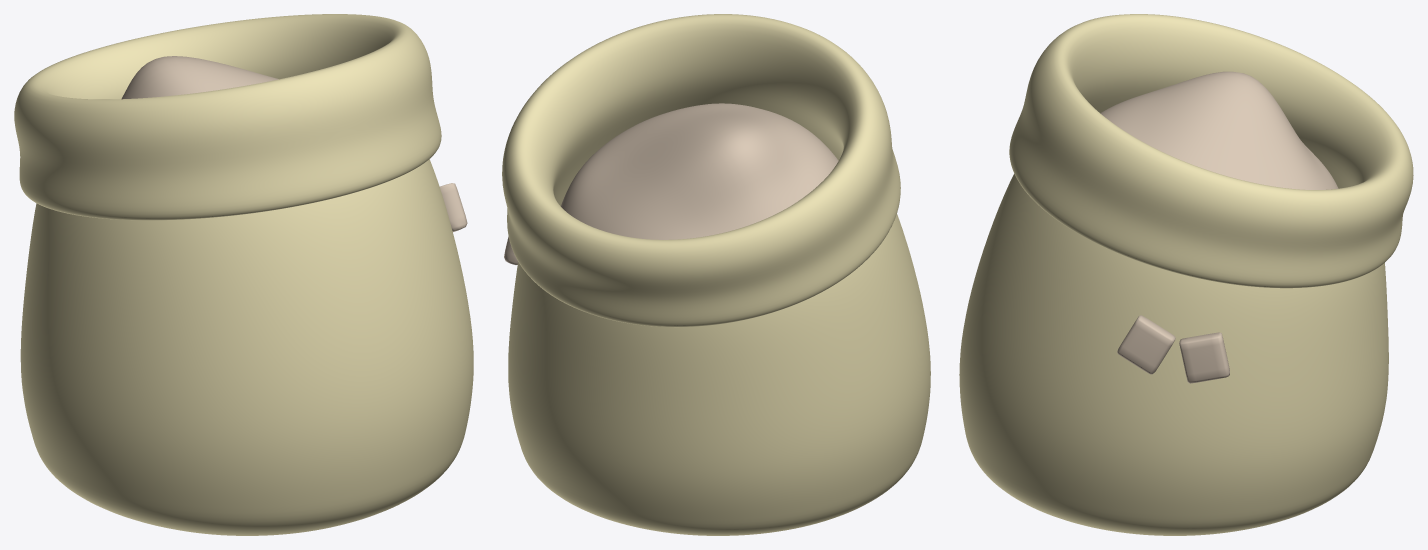
The model's file is sucre.fbx.
3 renders of one model, left to right at view 1: azimuth 30°, elevation 25°; view 2: azimuth 150°, elevation 25°; view 3: azimuth 270°, elevation 25°, orthographic. The views are drawn at different scales.
Parts seen in each view (by area): view 1: sucre_pot, sucre, Cube; view 2: sucre_pot, sucre; view 3: sucre_pot, sucre, Cube.001, Cube.
Part boxes in pixels (box(x1,y1,x2,y2)): sucre_pot: box(14, 14, 473, 535); sucre: box(121, 56, 278, 99); Cube: box(440, 183, 467, 231); sucre_pot: box(502, 14, 930, 535); sucre: box(561, 103, 838, 239); sucre_pot: box(959, 14, 1413, 535); sucre: box(1100, 71, 1338, 189); Cube.001: box(1179, 332, 1229, 383); Cube: box(1117, 315, 1175, 374).
Size of the model in its own units: 150 by 164 by 155.
